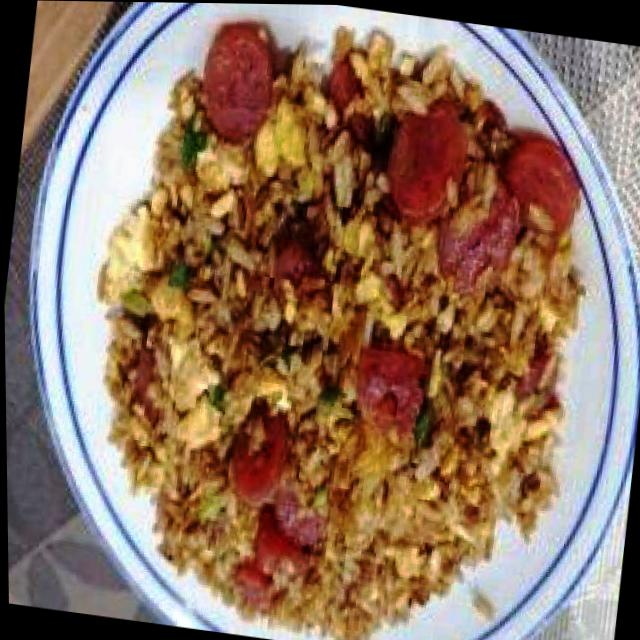Fried Rice: (53, 6, 606, 640)
chinese_sausage: (385, 98, 472, 222), (194, 21, 280, 146), (433, 185, 526, 299), (501, 139, 586, 240), (225, 398, 297, 507), (351, 345, 429, 431)
